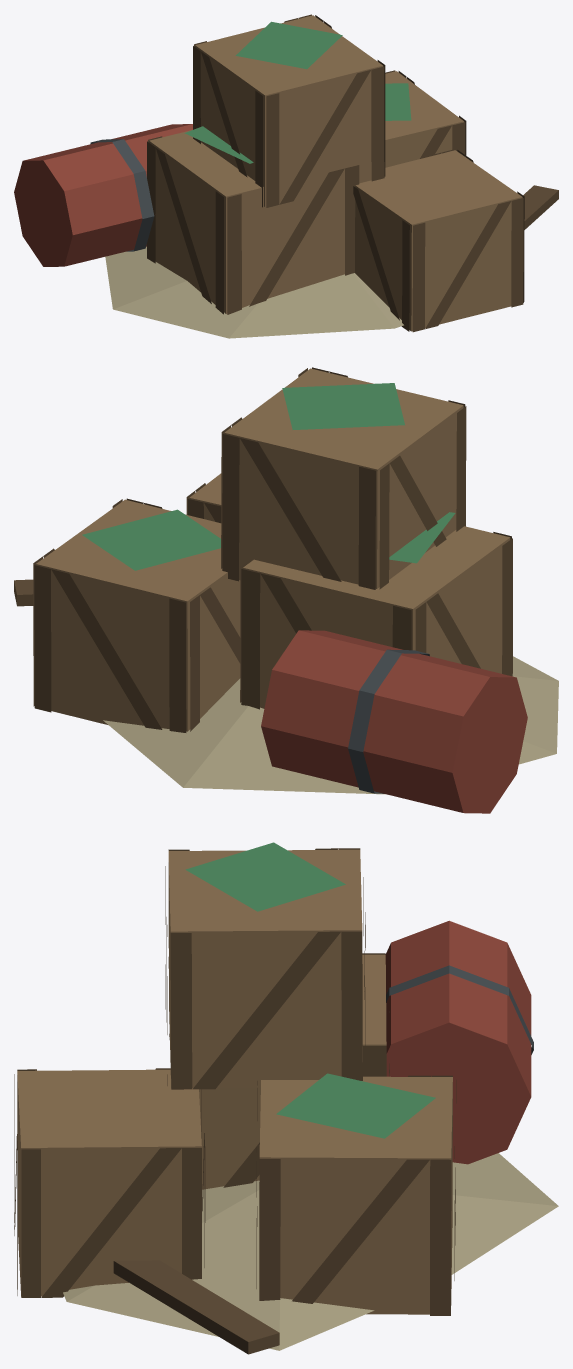
File: sunken_crates.glb
3 views of the same model, one above another, from view 1: azimuth 30°, elevation 25°; view 2: azimuth 150°, elevation 25°; view 3: azimuth 270°, elevation 25° (orthographic). The views are drawn at different scales.
Visible parts, largest first — view 1: Body; view 2: Body; view 3: Body.
Boxes of the visible parts, x1,y1,x2,y2 form: Body: (14, 14, 558, 338); Body: (14, 367, 558, 813); Body: (14, 842, 558, 1354).
Size of the model in its own units: 2.61 by 1.29 by 1.99.
